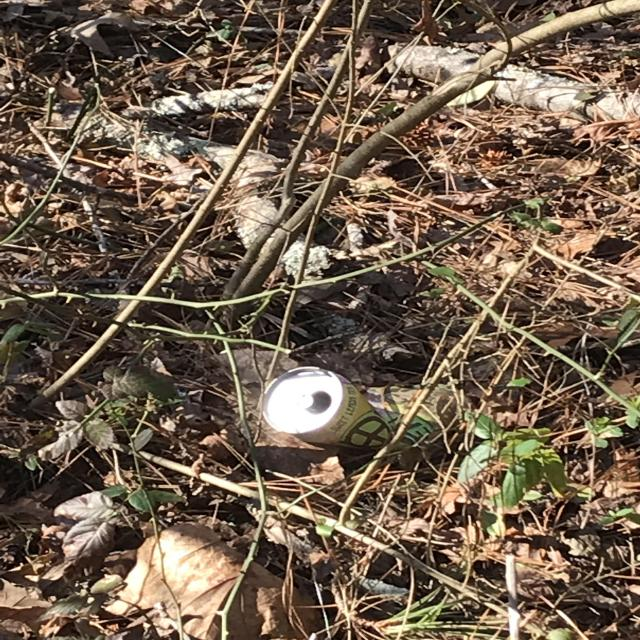litter: (260, 368, 433, 455)
